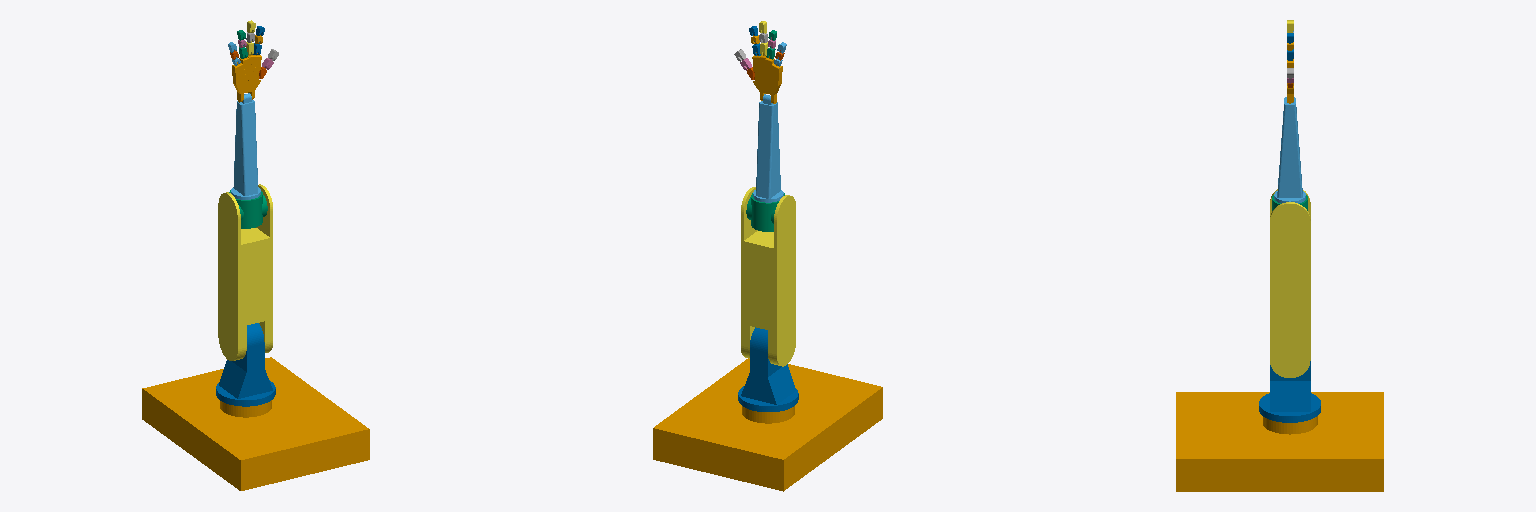
robot.urdf — HandBot:
<?xml version="1.0" ?>
<robot name="HandBot">

<link name="base_link">
  <inertial>
    <origin xyz="0.05828589570831179 -0.017233303202980166 -1.0569907835876657" rpy="0 0 0"/>
    <mass value="200.8271220404809"/>
    <inertia ixx="5.540602" iyy="3.257941" izz="8.417032" ixy="0.002781" iyz="-0.010989" ixz="0.006943"/>
  </inertial>
  <visual>
    <origin xyz="0 0 0" rpy="0 0 0"/>
    <geometry>
      <mesh filename="meshes/base_link.stl" scale="0.001 0.001 0.001"/>
    </geometry>
    <material name="silver"/>
  </visual>
  <collision>
    <origin xyz="0 0 0" rpy="0 0 0"/>
    <geometry>
      <mesh filename="meshes/base_link.stl" scale="0.001 0.001 0.001"/>
    </geometry>
  </collision>
</link>

<link name="pinky_b_1">
  <inertial>
    <origin xyz="-0.0006875437725173562 1.734723475976807e-18 0.0026067773102528696" rpy="0 0 0"/>
    <mass value="0.037507074361311475"/>
    <inertia ixx="2e-06" iyy="2e-06" izz="2e-06" ixy="0.0" iyz="-0.0" ixz="0.0"/>
  </inertial>
  <visual>
    <origin xyz="-0.009534 -0.01 -0.107216" rpy="0 0 0"/>
    <geometry>
      <mesh filename="meshes/pinky_b_1.stl" scale="0.001 0.001 0.001"/>
    </geometry>
    <material name="silver"/>
  </visual>
  <collision>
    <origin xyz="-0.009534 -0.01 -0.107216" rpy="0 0 0"/>
    <geometry>
      <mesh filename="meshes/pinky_b_1.stl" scale="0.001 0.001 0.001"/>
    </geometry>
  </collision>
</link>

<link name="ring_b_1">
  <inertial>
    <origin xyz="-0.0011280549931480532 1.734723475976807e-18 0.010207260307445176" rpy="0 0 0"/>
    <mass value="0.07459720648244657"/>
    <inertia ixx="9e-06" iyy="9e-06" izz="4e-06" ixy="0.0" iyz="-0.0" ixz="1e-06"/>
  </inertial>
  <visual>
    <origin xyz="-0.033736 -0.01 -0.123168" rpy="0 0 0"/>
    <geometry>
      <mesh filename="meshes/ring_b_1.stl" scale="0.001 0.001 0.001"/>
    </geometry>
    <material name="silver"/>
  </visual>
  <collision>
    <origin xyz="-0.033736 -0.01 -0.123168" rpy="0 0 0"/>
    <geometry>
      <mesh filename="meshes/ring_b_1.stl" scale="0.001 0.001 0.001"/>
    </geometry>
  </collision>
</link>

<link name="middle_b_1">
  <inertial>
    <origin xyz="0.0008388761543654394 5.377642775528102e-15 0.01278695435703378" rpy="0 0 0"/>
    <mass value="0.08725974909093531"/>
    <inertia ixx="1.3e-05" iyy="1.3e-05" izz="5e-06" ixy="-0.0" iyz="-0.0" ixz="-1e-06"/>
  </inertial>
  <visual>
    <origin xyz="-0.054177 -0.01 -0.128125" rpy="0 0 0"/>
    <geometry>
      <mesh filename="meshes/middle_b_1.stl" scale="0.001 0.001 0.001"/>
    </geometry>
    <material name="silver"/>
  </visual>
  <collision>
    <origin xyz="-0.054177 -0.01 -0.128125" rpy="0 0 0"/>
    <geometry>
      <mesh filename="meshes/middle_b_1.stl" scale="0.001 0.001 0.001"/>
    </geometry>
  </collision>
</link>

<link name="index_b_1">
  <inertial>
    <origin xyz="0.00200559484297054 -3.469446951953614e-16 0.010064739753064142" rpy="0 0 0"/>
    <mass value="0.07457904216380486"/>
    <inertia ixx="9e-06" iyy="9e-06" izz="4e-06" ixy="0.0" iyz="0.0" ixz="-1e-06"/>
  </inertial>
  <visual>
    <origin xyz="-0.076931 -0.01 -0.123298" rpy="0 0 0"/>
    <geometry>
      <mesh filename="meshes/index_b_1.stl" scale="0.001 0.001 0.001"/>
    </geometry>
    <material name="silver"/>
  </visual>
  <collision>
    <origin xyz="-0.076931 -0.01 -0.123298" rpy="0 0 0"/>
    <geometry>
      <mesh filename="meshes/index_b_1.stl" scale="0.001 0.001 0.001"/>
    </geometry>
  </collision>
</link>

<link name="pinky_m_1">
  <inertial>
    <origin xyz="-0.0013004130573036525 3.469446951953614e-18 0.0049287528490963295" rpy="0 0 0"/>
    <mass value="0.04920458416046905"/>
    <inertia ixx="4e-06" iyy="4e-06" izz="3e-06" ixy="0.0" iyz="-0.0" ixz="0.0"/>
  </inertial>
  <visual>
    <origin xyz="-0.004237 -0.01 -0.127298" rpy="0 0 0"/>
    <geometry>
      <mesh filename="meshes/pinky_m_1.stl" scale="0.001 0.001 0.001"/>
    </geometry>
    <material name="silver"/>
  </visual>
  <collision>
    <origin xyz="-0.004237 -0.01 -0.127298" rpy="0 0 0"/>
    <geometry>
      <mesh filename="meshes/pinky_m_1.stl" scale="0.001 0.001 0.001"/>
    </geometry>
  </collision>
</link>

<link name="ring_m_1">
  <inertial>
    <origin xyz="-0.0005619692937607473 3.469446951953614e-18 0.00508300874156023" rpy="0 0 0"/>
    <mass value="0.049241706482446516"/>
    <inertia ixx="4e-06" iyy="4e-06" izz="3e-06" ixy="0.0" iyz="-0.0" ixz="0.0"/>
  </inertial>
  <visual>
    <origin xyz="-0.029841 -0.01 -0.158411" rpy="0 0 0"/>
    <geometry>
      <mesh filename="meshes/ring_m_1.stl" scale="0.001 0.001 0.001"/>
    </geometry>
    <material name="silver"/>
  </visual>
  <collision>
    <origin xyz="-0.029841 -0.01 -0.158411" rpy="0 0 0"/>
    <geometry>
      <mesh filename="meshes/ring_m_1.stl" scale="0.001 0.001 0.001"/>
    </geometry>
  </collision>
</link>

<link name="middle_m_1">
  <inertial>
    <origin xyz="0.0005031145863712769 -8.673617379884035e-18 0.007692871761193182" rpy="0 0 0"/>
    <mass value="0.061924838415061606"/>
    <inertia ixx="6e-06" iyy="6e-06" izz="3e-06" ixy="-0.0" iyz="-0.0" ixz="-0.0"/>
  </inertial>
  <visual>
    <origin xyz="-0.056826 -0.01 -0.168524" rpy="0 0 0"/>
    <geometry>
      <mesh filename="meshes/middle_m_1.stl" scale="0.001 0.001 0.001"/>
    </geometry>
    <material name="silver"/>
  </visual>
  <collision>
    <origin xyz="-0.056826 -0.01 -0.168524" rpy="0 0 0"/>
    <geometry>
      <mesh filename="meshes/middle_m_1.stl" scale="0.001 0.001 0.001"/>
    </geometry>
  </collision>
</link>

<link name="index_m_1">
  <inertial>
    <origin xyz="0.0009980536112661614 -4.978656376053436e-16 0.005007542417008626" rpy="0 0 0"/>
    <mass value="0.04922354216380428"/>
    <inertia ixx="4e-06" iyy="4e-06" izz="3e-06" ixy="0.0" iyz="0.0" ixz="-0.0"/>
  </inertial>
  <visual>
    <origin xyz="-0.083841 -0.01 -0.157981" rpy="0 0 0"/>
    <geometry>
      <mesh filename="meshes/index_m_1.stl" scale="0.001 0.001 0.001"/>
    </geometry>
    <material name="silver"/>
  </visual>
  <collision>
    <origin xyz="-0.083841 -0.01 -0.157981" rpy="0 0 0"/>
    <geometry>
      <mesh filename="meshes/index_m_1.stl" scale="0.001 0.001 0.001"/>
    </geometry>
  </collision>
</link>

<link name="pinky_t_1">
  <inertial>
    <origin xyz="-0.0015140707748512415 -4.704998910779953e-06 0.005739342394943142" rpy="0 0 0"/>
    <mass value="0.054506879752136375"/>
    <inertia ixx="4e-06" iyy="4e-06" izz="3e-06" ixy="-0.0" iyz="0.0" ixz="0.0"/>
  </inertial>
  <visual>
    <origin xyz="0.002208 -0.01 -0.15173" rpy="0 0 0"/>
    <geometry>
      <mesh filename="meshes/pinky_t_1.stl" scale="0.001 0.001 0.001"/>
    </geometry>
    <material name="silver"/>
  </visual>
  <collision>
    <origin xyz="0.002208 -0.01 -0.15173" rpy="0 0 0"/>
    <geometry>
      <mesh filename="meshes/pinky_t_1.stl" scale="0.001 0.001 0.001"/>
    </geometry>
  </collision>
</link>

<link name="ring_t_1">
  <inertial>
    <origin xyz="-0.0006519024259250064 -4.704998910783423e-06 0.005898879937333151" rpy="0 0 0"/>
    <mass value="0.05450687975213653"/>
    <inertia ixx="4e-06" iyy="4e-06" izz="3e-06" ixy="-0.0" iyz="0.0" ixz="0.0"/>
  </inertial>
  <visual>
    <origin xyz="-0.027044 -0.01 -0.183715" rpy="0 0 0"/>
    <geometry>
      <mesh filename="meshes/ring_t_1.stl" scale="0.001 0.001 0.001"/>
    </geometry>
    <material name="silver"/>
  </visual>
  <collision>
    <origin xyz="-0.027044 -0.01 -0.183715" rpy="0 0 0"/>
    <geometry>
      <mesh filename="meshes/ring_t_1.stl" scale="0.001 0.001 0.001"/>
    </geometry>
  </collision>
</link>

<link name="middle_t_1">
  <inertial>
    <origin xyz="0.0006265899996844779 -3.549266068552867e-06 0.00958001045144563" rpy="0 0 0"/>
    <mass value="0.07225572975213648"/>
    <inertia ixx="8e-06" iyy="8e-06" izz="4e-06" ixy="0.0" iyz="0.0" ixz="-0.0"/>
  </inertial>
  <visual>
    <origin xyz="-0.058817 -0.01 -0.198944" rpy="0 0 0"/>
    <geometry>
      <mesh filename="meshes/middle_t_1.stl" scale="0.001 0.001 0.001"/>
    </geometry>
    <material name="silver"/>
  </visual>
  <collision>
    <origin xyz="-0.058817 -0.01 -0.198944" rpy="0 0 0"/>
    <geometry>
      <mesh filename="meshes/middle_t_1.stl" scale="0.001 0.001 0.001"/>
    </geometry>
  </collision>
</link>

<link name="index_t_1">
  <inertial>
    <origin xyz="0.001159259354610212 -4.704998910717503e-06 0.0058209981672522615" rpy="0 0 0"/>
    <mass value="0.05450687975213661"/>
    <inertia ixx="4e-06" iyy="4e-06" izz="3e-06" ixy="0.0" iyz="0.0" ixz="-0.0"/>
  </inertial>
  <visual>
    <origin xyz="-0.088798 -0.01 -0.182857" rpy="0 0 0"/>
    <geometry>
      <mesh filename="meshes/index_t_1.stl" scale="0.001 0.001 0.001"/>
    </geometry>
    <material name="silver"/>
  </visual>
  <collision>
    <origin xyz="-0.088798 -0.01 -0.182857" rpy="0 0 0"/>
    <geometry>
      <mesh filename="meshes/index_t_1.stl" scale="0.001 0.001 0.001"/>
    </geometry>
  </collision>
</link>

<link name="thumb_b_1">
  <inertial>
    <origin xyz="0.012352961379988522 2.0643209364124004e-16 0.003157467947648193" rpy="0 0 0"/>
    <mass value="0.061845067027587894"/>
    <inertia ixx="5e-06" iyy="7e-06" izz="4e-06" ixy="-0.0" iyz="-0.0" ixz="-1e-06"/>
  </inertial>
  <visual>
    <origin xyz="-0.0835 -0.01 -0.050246" rpy="0 0 0"/>
    <geometry>
      <mesh filename="meshes/thumb_b_1.stl" scale="0.001 0.001 0.001"/>
    </geometry>
    <material name="silver"/>
  </visual>
  <collision>
    <origin xyz="-0.0835 -0.01 -0.050246" rpy="0 0 0"/>
    <geometry>
      <mesh filename="meshes/thumb_b_1.stl" scale="0.001 0.001 0.001"/>
    </geometry>
  </collision>
</link>

<link name="thumb_m_1">
  <inertial>
    <origin xyz="0.004673283081426199 -8.424120570426838e-06 0.005791809590895147" rpy="0 0 0"/>
    <mass value="0.07376017339121935"/>
    <inertia ixx="6e-06" iyy="8e-06" izz="6e-06" ixy="0.0" iyz="0.0" ixz="-1e-06"/>
  </inertial>
  <visual>
    <origin xyz="-0.111005 -0.01 -0.072075" rpy="0 0 0"/>
    <geometry>
      <mesh filename="meshes/thumb_m_1.stl" scale="0.001 0.001 0.001"/>
    </geometry>
    <material name="silver"/>
  </visual>
  <collision>
    <origin xyz="-0.111005 -0.01 -0.072075" rpy="0 0 0"/>
    <geometry>
      <mesh filename="meshes/thumb_m_1.stl" scale="0.001 0.001 0.001"/>
    </geometry>
  </collision>
</link>

<link name="thumb_t_1">
  <inertial>
    <origin xyz="0.004228379847308478 -1.2130065720986766e-05 0.005240028904204233" rpy="0 0 0"/>
    <mass value="0.07140174665068301"/>
    <inertia ixx="6e-06" iyy="7e-06" izz="5e-06" ixy="0.0" iyz="0.0" ixz="-1e-06"/>
  </inertial>
  <visual>
    <origin xyz="-0.130219 -0.009965 -0.095886" rpy="0 0 0"/>
    <geometry>
      <mesh filename="meshes/thumb_t_1.stl" scale="0.001 0.001 0.001"/>
    </geometry>
    <material name="silver"/>
  </visual>
  <collision>
    <origin xyz="-0.130219 -0.009965 -0.095886" rpy="0 0 0"/>
    <geometry>
      <mesh filename="meshes/thumb_t_1.stl" scale="0.001 0.001 0.001"/>
    </geometry>
  </collision>
</link>

<link name="palm_1">
  <inertial>
    <origin xyz="0.0032614485400721815 4.189956278299531e-06 0.07150272467461033" rpy="0 0 0"/>
    <mass value="1.38871857421675"/>
    <inertia ixx="0.00168" iyy="0.002324" izz="0.000734" ixy="-0.0" iyz="-0.0" ixz="-0.000118"/>
  </inertial>
  <visual>
    <origin xyz="-0.04108 -0.01 0.015169" rpy="0 0 0"/>
    <geometry>
      <mesh filename="meshes/palm_1.stl" scale="0.001 0.001 0.001"/>
    </geometry>
    <material name="silver"/>
  </visual>
  <collision>
    <origin xyz="-0.04108 -0.01 0.015169" rpy="0 0 0"/>
    <geometry>
      <mesh filename="meshes/palm_1.stl" scale="0.001 0.001 0.001"/>
    </geometry>
  </collision>
</link>

<link name="forearm_v1_1">
  <inertial>
    <origin xyz="-3.5992262806955333e-07 2.3245294578089215e-16 0.12668329616658985" rpy="0 0 0"/>
    <mass value="5.932990460342234"/>
    <inertia ixx="0.046358" iyy="0.046064" izz="0.002765" ixy="-0.0" iyz="-0.0" ixz="0.0"/>
  </inertial>
  <visual>
    <origin xyz="-0.04108 -0.01 0.324" rpy="0 0 0"/>
    <geometry>
      <mesh filename="meshes/forearm_v1_1.stl" scale="0.001 0.001 0.001"/>
    </geometry>
    <material name="silver"/>
  </visual>
  <collision>
    <origin xyz="-0.04108 -0.01 0.324" rpy="0 0 0"/>
    <geometry>
      <mesh filename="meshes/forearm_v1_1.stl" scale="0.001 0.001 0.001"/>
    </geometry>
  </collision>
</link>

<link name="elbow_v1_1">
  <inertial>
    <origin xyz="-3.5992262805567554e-07 3.469446951953614e-18 4.5675716542348255e-09" rpy="0 0 0"/>
    <mass value="4.910549497212174"/>
    <inertia ixx="0.007393" iyy="0.007104" izz="0.007022" ixy="-0.0" iyz="0.0" ixz="0.0"/>
  </inertial>
  <visual>
    <origin xyz="-0.04108 -0.01 0.369" rpy="0 0 0"/>
    <geometry>
      <mesh filename="meshes/elbow_v1_1.stl" scale="0.001 0.001 0.001"/>
    </geometry>
    <material name="silver"/>
  </visual>
  <collision>
    <origin xyz="-0.04108 -0.01 0.369" rpy="0 0 0"/>
    <geometry>
      <mesh filename="meshes/elbow_v1_1.stl" scale="0.001 0.001 0.001"/>
    </geometry>
  </collision>
</link>

<link name="upperarm_v1_1">
  <inertial>
    <origin xyz="-3.5992262804873665e-07 -2.6020852139652106e-17 0.18604688252252033" rpy="0 0 0"/>
    <mass value="38.00597131962047"/>
    <inertia ixx="0.581944" iyy="0.598368" izz="0.092438" ixy="-0.0" iyz="0.0" ixz="-0.0"/>
  </inertial>
  <visual>
    <origin xyz="-0.04108 -0.01 0.789" rpy="0 0 0"/>
    <geometry>
      <mesh filename="meshes/upperarm_v1_1.stl" scale="0.001 0.001 0.001"/>
    </geometry>
    <material name="silver"/>
  </visual>
  <collision>
    <origin xyz="-0.04108 -0.01 0.789" rpy="0 0 0"/>
    <geometry>
      <mesh filename="meshes/upperarm_v1_1.stl" scale="0.001 0.001 0.001"/>
    </geometry>
  </collision>
</link>

<link name="shoulderjoint_v1_1">
  <inertial>
    <origin xyz="-3.5992262804873665e-07 3.1012552910436586e-07 0.08461479599344168" rpy="0 0 0"/>
    <mass value="16.084566019701764"/>
    <inertia ixx="0.093267" iyy="0.086747" izz="0.033471" ixy="-0.0" iyz="0.0" ixz="-0.0"/>
  </inertial>
  <visual>
    <origin xyz="-0.04108 -0.01 0.969" rpy="0 0 0"/>
    <geometry>
      <mesh filename="meshes/shoulderjoint_v1_1.stl" scale="0.001 0.001 0.001"/>
    </geometry>
    <material name="silver"/>
  </visual>
  <collision>
    <origin xyz="-0.04108 -0.01 0.969" rpy="0 0 0"/>
    <geometry>
      <mesh filename="meshes/shoulderjoint_v1_1.stl" scale="0.001 0.001 0.001"/>
    </geometry>
  </collision>
</link>

<joint name="Revolute 7" type="revolute">
  <origin xyz="-0.031546 0.0 0.122385" rpy="0 0 0"/>
  <parent link="palm_1"/>
  <child link="pinky_b_1"/>
  <axis xyz="0.966925 0.0 0.255062"/>
  <limit upper="1.570796" lower="0.0" effort="100" velocity="100"/>
</joint>

<joint name="Revolute 8" type="revolute">
  <origin xyz="-0.007344 0.0 0.138337" rpy="0 0 0"/>
  <parent link="palm_1"/>
  <child link="ring_b_1"/>
  <axis xyz="0.993947 0.0 0.109857"/>
  <limit upper="1.570796" lower="0.0" effort="100" velocity="100"/>
</joint>

<joint name="Revolute 9" type="revolute">
  <origin xyz="0.013097 0.0 0.143294" rpy="0 0 0"/>
  <parent link="palm_1"/>
  <child link="middle_b_1"/>
  <axis xyz="0.997865 0.0 -0.065309"/>
  <limit upper="1.570796" lower="0.0" effort="100" velocity="100"/>
</joint>

<joint name="Revolute 10" type="revolute">
  <origin xyz="0.035851 0.0 0.138467" rpy="0 0 0"/>
  <parent link="palm_1"/>
  <child link="index_b_1"/>
  <axis xyz="0.980725 0.0 -0.195393"/>
  <limit upper="1.570796" lower="0.0" effort="100" velocity="100"/>
</joint>

<joint name="Revolute 11" type="revolute">
  <origin xyz="-0.005297 0.0 0.020082" rpy="0 0 0"/>
  <parent link="pinky_b_1"/>
  <child link="pinky_m_1"/>
  <axis xyz="0.966925 0.0 0.255062"/>
  <limit upper="1.570796" lower="0.0" effort="100" velocity="100"/>
</joint>

<joint name="Revolute 12" type="revolute">
  <origin xyz="-0.003895 0.0 0.035243" rpy="0 0 0"/>
  <parent link="ring_b_1"/>
  <child link="ring_m_1"/>
  <axis xyz="0.993947 0.0 0.109857"/>
  <limit upper="1.570796" lower="0.0" effort="100" velocity="100"/>
</joint>

<joint name="Revolute 13" type="revolute">
  <origin xyz="0.002649 0.0 0.040399" rpy="0 0 0"/>
  <parent link="middle_b_1"/>
  <child link="middle_m_1"/>
  <axis xyz="0.997865 -0.0 -0.065309"/>
  <limit upper="1.570796" lower="0.0" effort="100" velocity="100"/>
</joint>

<joint name="Revolute 14" type="revolute">
  <origin xyz="0.00691 0.0 0.034683" rpy="0 0 0"/>
  <parent link="index_b_1"/>
  <child link="index_m_1"/>
  <axis xyz="0.980725 0.0 -0.195393"/>
  <limit upper="1.570796" lower="0.0" effort="100" velocity="100"/>
</joint>

<joint name="Revolute 15" type="revolute">
  <origin xyz="-0.006445 0.0 0.024432" rpy="0 0 0"/>
  <parent link="pinky_m_1"/>
  <child link="pinky_t_1"/>
  <axis xyz="0.966925 0.0 0.255062"/>
  <limit upper="1.570796" lower="0.0" effort="100" velocity="100"/>
</joint>

<joint name="Revolute 16" type="revolute">
  <origin xyz="-0.002797 0.0 0.025304" rpy="0 0 0"/>
  <parent link="ring_m_1"/>
  <child link="ring_t_1"/>
  <axis xyz="0.993947 0.0 0.109857"/>
  <limit upper="1.570796" lower="0.0" effort="100" velocity="100"/>
</joint>

<joint name="Revolute 17" type="revolute">
  <origin xyz="0.001991 0.0 0.03042" rpy="0 0 0"/>
  <parent link="middle_m_1"/>
  <child link="middle_t_1"/>
  <axis xyz="0.997865 0.0 -0.065309"/>
  <limit upper="1.570796" lower="0.0" effort="100" velocity="100"/>
</joint>

<joint name="Revolute 18" type="revolute">
  <origin xyz="0.004957 0.0 0.024876" rpy="0 0 0"/>
  <parent link="index_m_1"/>
  <child link="index_t_1"/>
  <axis xyz="0.980725 0.0 -0.195393"/>
  <limit upper="1.570796" lower="0.0" effort="100" velocity="100"/>
</joint>

<joint name="Revolute 19" type="revolute">
  <origin xyz="0.04242 0.0 0.065415" rpy="0 0 0"/>
  <parent link="palm_1"/>
  <child link="thumb_b_1"/>
  <axis xyz="-0.0 0.0 -1.0"/>
  <limit upper="1.047198" lower="0.0" effort="100" velocity="100"/>
</joint>

<joint name="Revolute 20" type="revolute">
  <origin xyz="0.027505 0.0 0.021829" rpy="0 0 0"/>
  <parent link="thumb_b_1"/>
  <child link="thumb_m_1"/>
  <axis xyz="-0.778222 0.0 0.627989"/>
  <limit upper="0.0" lower="-1.570796" effort="100" velocity="100"/>
</joint>

<joint name="Revolute 21" type="revolute">
  <origin xyz="0.019214 -3.5e-05 0.023811" rpy="0 0 0"/>
  <parent link="thumb_m_1"/>
  <child link="thumb_t_1"/>
  <axis xyz="-0.778222 -0.0 0.627989"/>
  <limit upper="0.0" lower="-1.570796" effort="100" velocity="100"/>
</joint>

<joint name="Revolute 23" type="revolute">
  <origin xyz="0.0 0.0 0.308831" rpy="0 0 0"/>
  <parent link="forearm_v1_1"/>
  <child link="palm_1"/>
  <axis xyz="-1.0 0.0 0.0"/>
  <limit upper="1.570796" lower="-1.570796" effort="100" velocity="100"/>
</joint>

<joint name="Revolute 24" type="revolute">
  <origin xyz="0.0 0.0 0.045" rpy="0 0 0"/>
  <parent link="elbow_v1_1"/>
  <child link="forearm_v1_1"/>
  <axis xyz="0.0 0.0 1.0"/>
  <limit upper="0.0" lower="-3.141593" effort="100" velocity="100"/>
</joint>

<joint name="Revolute 25" type="revolute">
  <origin xyz="0.0 0.0 0.42" rpy="0 0 0"/>
  <parent link="upperarm_v1_1"/>
  <child link="elbow_v1_1"/>
  <axis xyz="1.0 0.0 0.0"/>
  <limit upper="0.0" lower="-2.007129" effort="100" velocity="100"/>
</joint>

<joint name="Revolute 26" type="revolute">
  <origin xyz="0.0 0.0 0.18" rpy="0 0 0"/>
  <parent link="shoulderjoint_v1_1"/>
  <child link="upperarm_v1_1"/>
  <axis xyz="1.0 0.0 0.0"/>
  <limit upper="1.570796" lower="-1.570796" effort="100" velocity="100"/>
</joint>

<joint name="Revolute 27" type="revolute">
  <origin xyz="0.04108 0.01 -0.969" rpy="0 0 0"/>
  <parent link="base_link"/>
  <child link="shoulderjoint_v1_1"/>
  <axis xyz="0.0 0.0 1.0"/>
  <limit upper="3.14" lower="-3.14" effort="100" velocity="100"/>
</joint>

</robot>

--- Facts derived from the render (not from the file) ---
Views: 3 orthographic renders of the robot side by side, from view 1: azimuth 30°, elevation 25°; view 2: azimuth 150°, elevation 25°; view 3: azimuth 270°, elevation 25°.
Robot: HandBot — 21 links, 20 joints (20 revolute); root link base_link; default pose: all joints at 0.
Visible links, largest first — view 1: base_link, upperarm_v1_1, shoulderjoint_v1_1, forearm_v1_1, palm_1, elbow_v1_1; view 2: base_link, upperarm_v1_1, shoulderjoint_v1_1, forearm_v1_1, palm_1, elbow_v1_1; view 3: base_link, upperarm_v1_1, shoulderjoint_v1_1, forearm_v1_1.
Link boxes in pixels (bbox=[...]): base_link: bbox=[142, 357, 369, 490]; upperarm_v1_1: bbox=[218, 184, 272, 360]; shoulderjoint_v1_1: bbox=[216, 323, 275, 406]; forearm_v1_1: bbox=[231, 93, 260, 199]; palm_1: bbox=[232, 53, 261, 102]; elbow_v1_1: bbox=[229, 190, 267, 228]; base_link: bbox=[653, 358, 882, 491]; upperarm_v1_1: bbox=[741, 187, 795, 366]; shoulderjoint_v1_1: bbox=[738, 327, 798, 411]; forearm_v1_1: bbox=[753, 94, 783, 202]; palm_1: bbox=[752, 52, 782, 103]; elbow_v1_1: bbox=[746, 193, 784, 231]; base_link: bbox=[1176, 392, 1383, 491]; upperarm_v1_1: bbox=[1270, 189, 1310, 377]; shoulderjoint_v1_1: bbox=[1259, 361, 1320, 422]; forearm_v1_1: bbox=[1274, 97, 1305, 203].
Size in the robot's own frame: 0.4337 by 0.573 by 1.33 metres.
21 mesh visuals loaded from 21 distinct referenced files (21 binary STL).